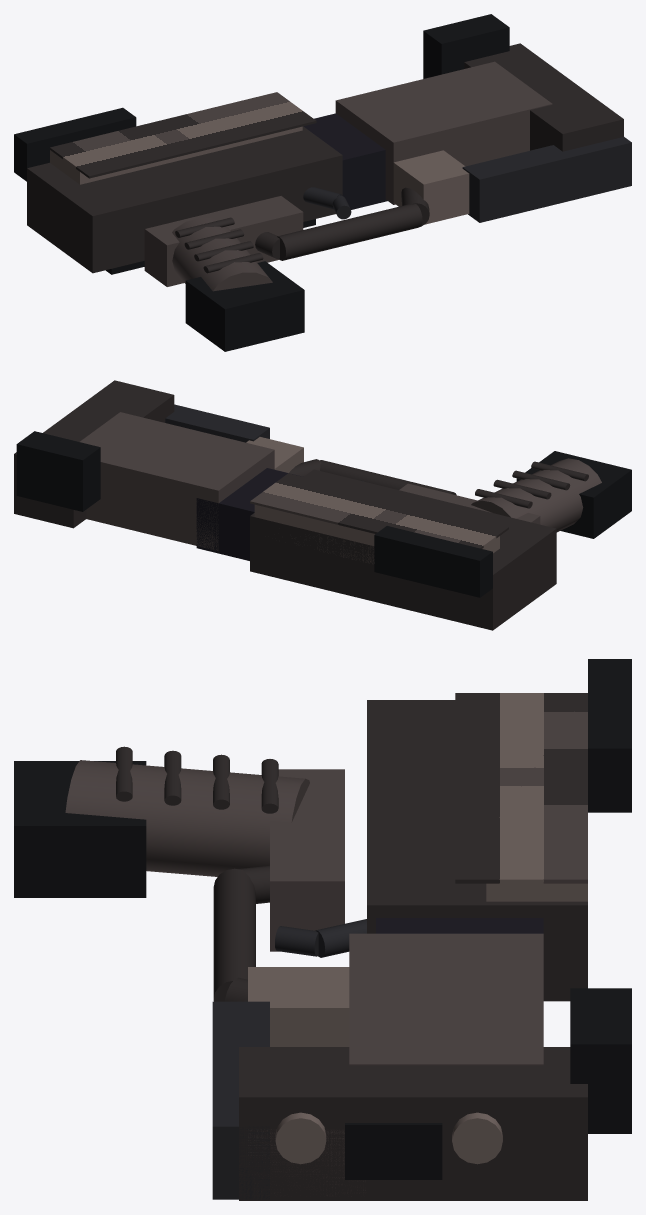
File: CMU3DTaserCloud.glb
The picture shows the model from 3 angles, top to bottom: view 1: azimuth 30°, elevation 25°; view 2: azimuth 150°, elevation 25°; view 3: azimuth 270°, elevation 25°; orthographic projection. The views are drawn at different scales.
Parts seen in each view (by area): view 1: rear receiver shell, forward power block, original receiver machining marks, lower front frame, grip butt, muzzle end block, grip shoulder, central bridge, front frame left join, front upper sight, trigger guard lower spar, slanted solid handgrip (+5 smaller); view 2: rear receiver shell, forward power block, original receiver machining marks, rear upper sight, front upper sight, muzzle end block, slanted solid handgrip, central bridge, grip butt, lower front frame, upper slide, trigger guard lower spar (+6 smaller); view 3: muzzle end block, forward power block, rear receiver shell, original receiver machining marks, slanted solid handgrip, grip butt, grip shoulder, lower front frame, front upper sight, front frame left join, rear upper sight, front bore recess (+11 smaller).
Part boxes in pixels (x1,y1,x2,y2): rear receiver shell: (27, 126, 342, 273); forward power block: (335, 61, 552, 204); original receiver machining marks: (50, 92, 316, 178); lower front frame: (462, 137, 631, 222); grip butt: (185, 261, 304, 351); muzzle end block: (464, 43, 623, 151); grip shoulder: (144, 196, 303, 286); central bridge: (303, 113, 387, 209); front frame left join: (393, 150, 469, 224); front upper sight: (423, 14, 509, 78); trigger guard lower spar: (277, 204, 422, 260); slanted solid handgrip: (172, 218, 272, 291); rear receiver shell: (250, 469, 556, 630); forward power block: (80, 412, 274, 550); original receiver machining marks: (250, 473, 508, 548); rear upper sight: (374, 526, 492, 597); front upper sight: (16, 431, 100, 511); muzzle end block: (14, 380, 174, 528); slanted solid handgrip: (471, 458, 601, 532); central bridge: (196, 468, 303, 560); grip butt: (516, 451, 631, 538); lower front frame: (165, 404, 269, 442); upper slide: (254, 504, 499, 563); trigger guard lower spar: (319, 460, 456, 495); muzzle end block: (239, 1047, 587, 1200); forward power block: (349, 933, 543, 1065); rear receiver shell: (367, 700, 587, 1001); original receiver machining marks: (455, 693, 587, 883); slanted solid handgrip: (65, 760, 309, 876); grip butt: (14, 761, 146, 897); grip shoulder: (270, 769, 344, 951); lower front frame: (212, 1001, 269, 1199); front upper sight: (570, 988, 631, 1133); front frame left join: (248, 967, 349, 1046); rear upper sight: (588, 659, 631, 812); front bore recess: (345, 1123, 442, 1179).
Bounding box in the file's own units: 0.6875 × 0.125 × 0.4375.
7 materials, 1 textured.
